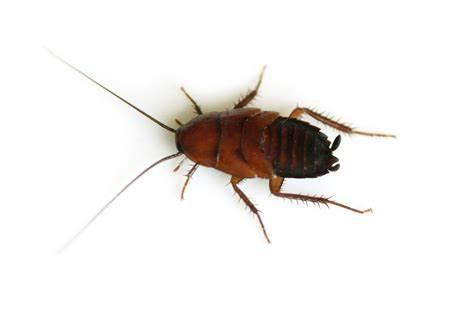cockroach: (162, 92, 354, 196)
